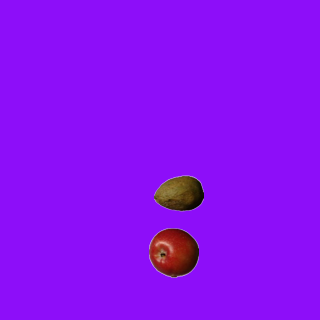Apple Braeburn: (148, 227, 198, 277)
Papaya: (153, 168, 203, 218)
